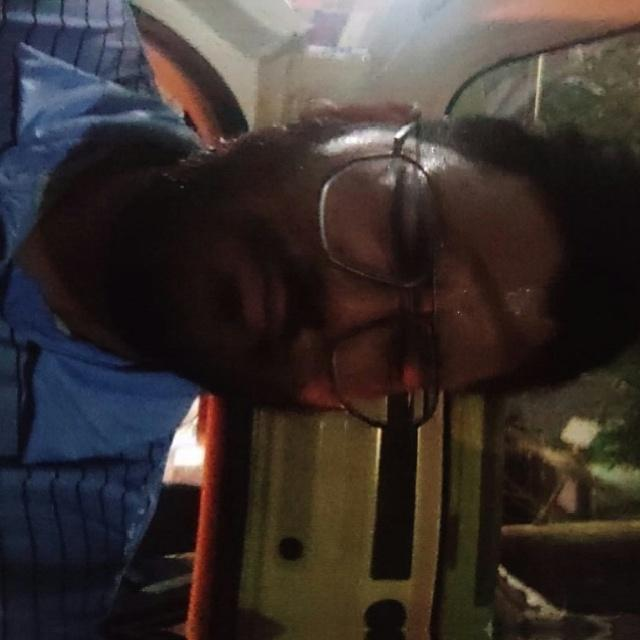Disgust: (114, 88, 640, 460)
